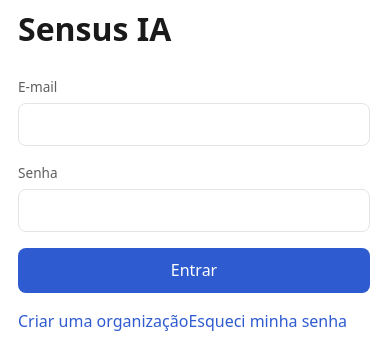
Test case: AuthScreen, ramo de criar organização › troca o formulário pela frase fixa, sem repetir o endereço digitado
Click the button "Criar uma organização" at coordinates (103, 322), box 18,309 -> 188,335
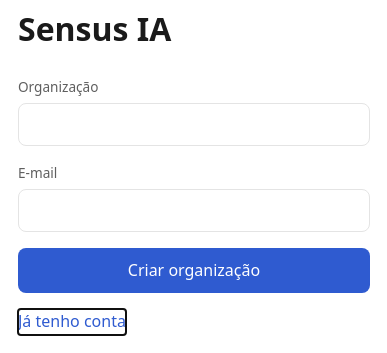
Type "Acme" into the field labelled "Organização" at coordinates (194, 124), box 18,103 -> 370,146
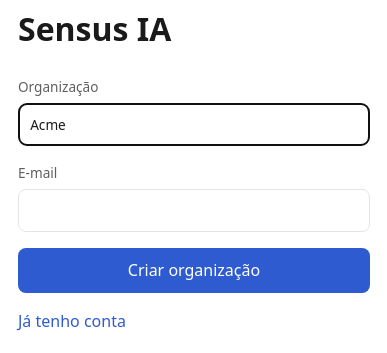
Type "nova@exemplo.invalido" into the field labelled "E-mail" at coordinates (194, 211), box 18,189 -> 370,232
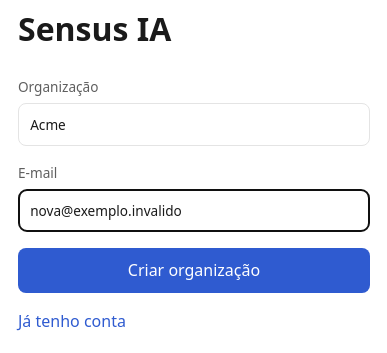
Click the button "Criar organização" at coordinates (194, 271), box 18,248 -> 370,293
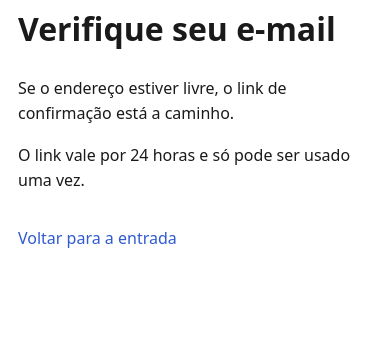
Expected: the text "nova@exemplo.invalido" is not shown
Now the text "link de confirmação está a caminho" is shown, box 18,77 -> 287,124
